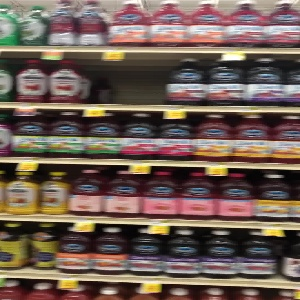void: (122, 54, 162, 106)
